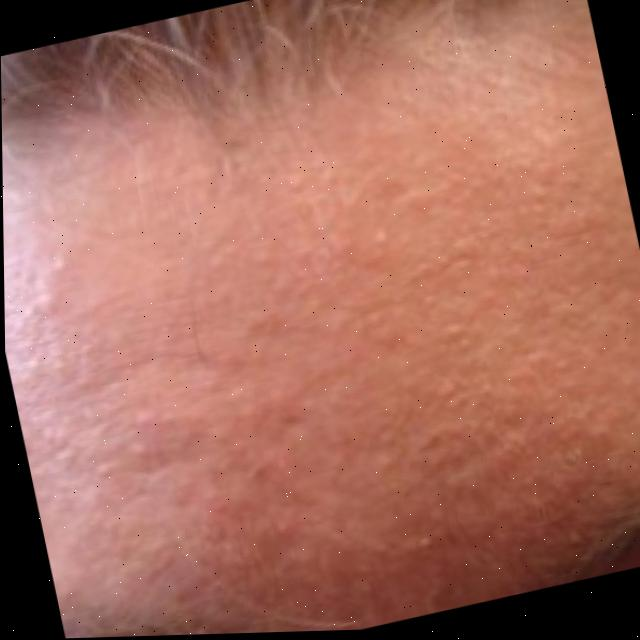Acne: (57, 153, 455, 620)
